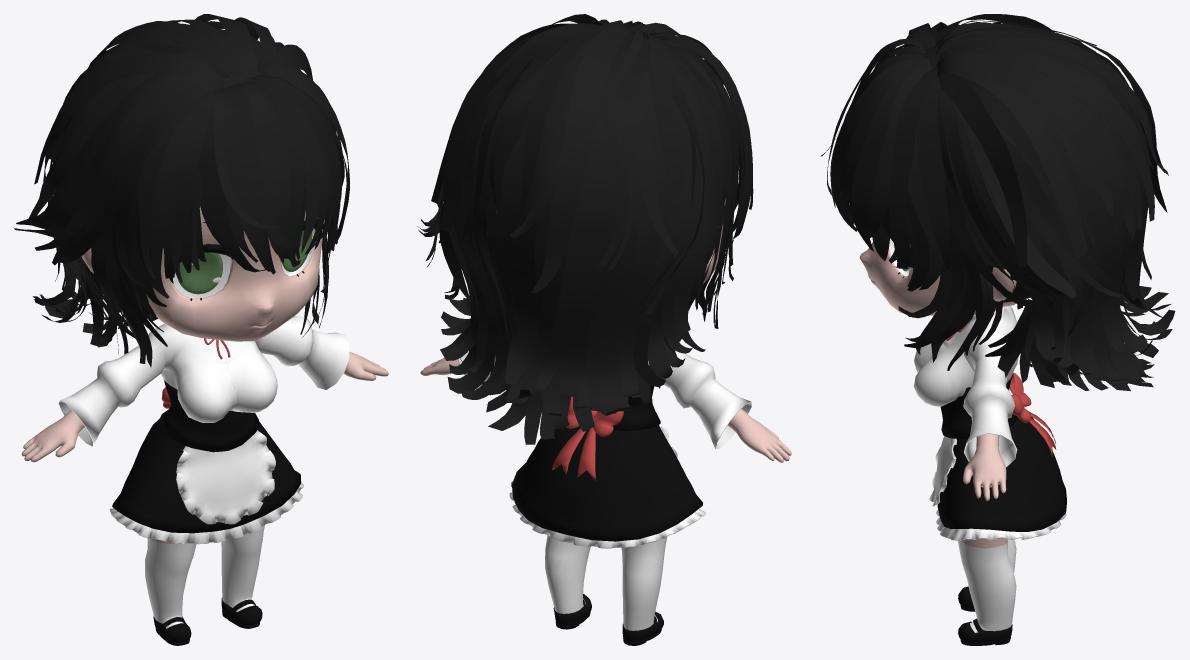
File: Maid2 (1).fbx
3 views of the same model, side by side, from view 1: azimuth 30°, elevation 25°; view 2: azimuth 150°, elevation 25°; view 3: azimuth 270°, elevation 25° (orthographic).
Visible parts, largest first — view 1: Maid 2; view 2: Maid 2; view 3: Maid 2.
Part boxes in pixels (box(x1,y1,x2,y2)): Maid 2: box(14, 14, 388, 645); Maid 2: box(417, 14, 791, 645); Maid 2: box(821, 14, 1175, 645).
Size of the model in its own units: 82.77 by 129 by 69.81.
